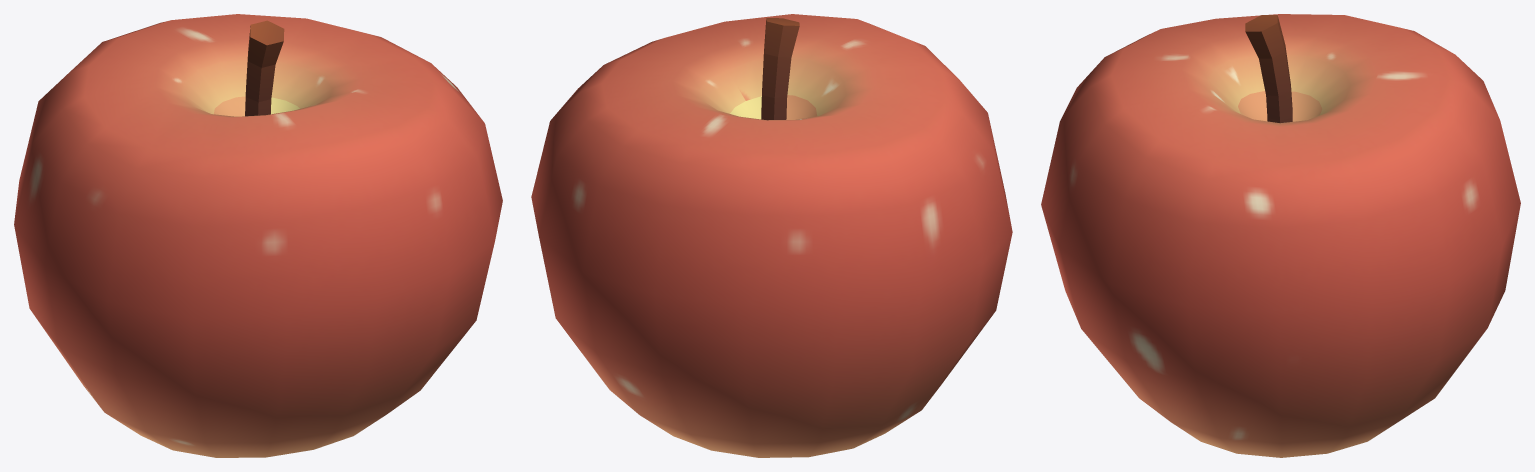
File: Apple.fbx
The picture shows the model from 3 angles, left to right: view 1: azimuth 30°, elevation 25°; view 2: azimuth 150°, elevation 25°; view 3: azimuth 270°, elevation 25°; orthographic projection.
Visible parts, largest first — view 1: Apple; view 2: Apple; view 3: Apple.
Boxes of the visible parts, x1=… form: Apple: x1=14, y1=14, x2=502, y2=457; Apple: x1=531, y1=14, x2=1012, y2=457; Apple: x1=1041, y1=14, x2=1520, y2=457.
Size of the model in its own units: 3.17 by 2.81 by 3.11.
